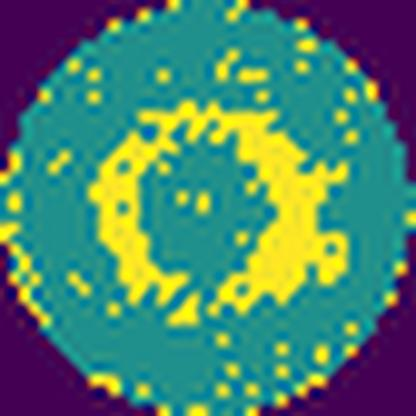Donut: (84, 102, 352, 328)
